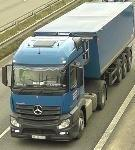Truck: (2, 3, 133, 142)
